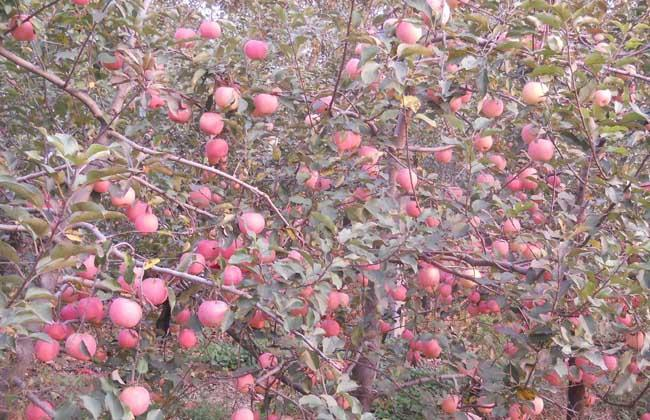apple: (118, 384, 150, 412), (111, 298, 143, 326), (65, 331, 97, 359), (137, 277, 169, 305), (199, 298, 230, 324), (527, 137, 555, 162), (11, 16, 37, 42), (396, 21, 425, 44), (33, 338, 61, 360), (213, 86, 238, 110), (79, 296, 104, 320), (199, 111, 224, 135), (520, 82, 547, 104), (417, 265, 441, 289), (395, 167, 418, 192), (243, 39, 269, 61), (252, 93, 278, 115), (240, 212, 264, 235), (481, 98, 504, 117), (593, 89, 611, 107)
